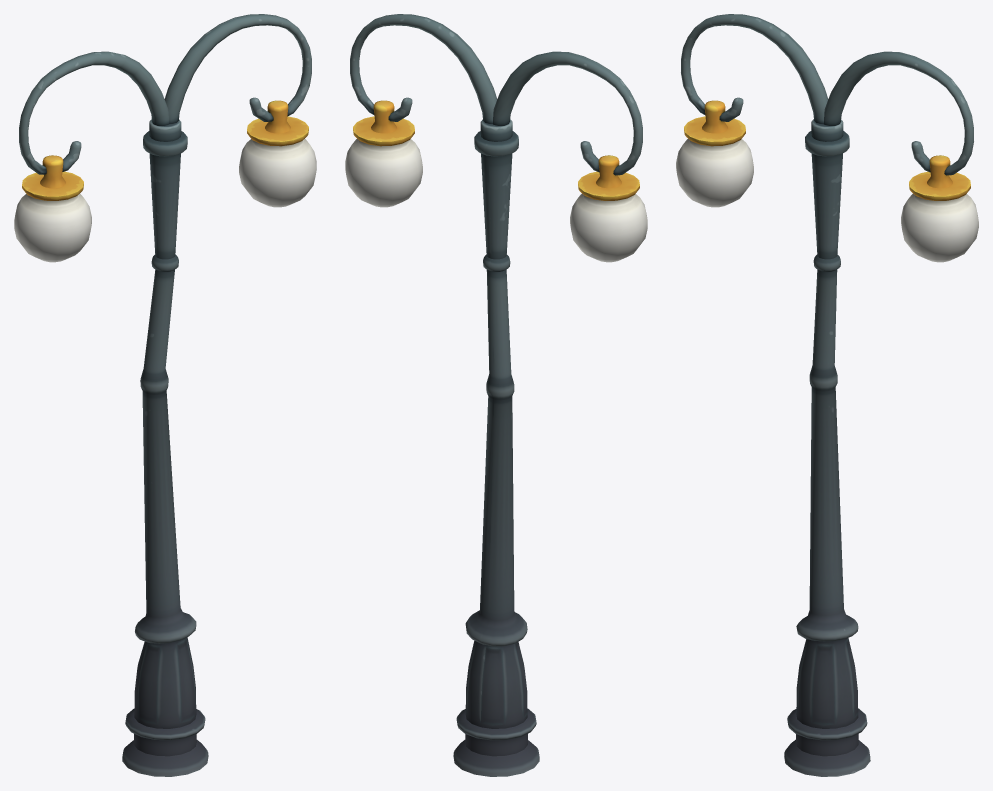
Rendered from StreetLamp02_2.FBX.
3 renders of one model, left to right at view 1: azimuth 30°, elevation 25°; view 2: azimuth 150°, elevation 25°; view 3: azimuth 330°, elevation 25°, orthographic.
Parts seen in each view (by area): view 1: StreetLamp02_2; view 2: StreetLamp02_2; view 3: StreetLamp02_2.
Boxes of the visible parts, x1,y1,x2,y2 form: StreetLamp02_2: [14, 14, 316, 776]; StreetLamp02_2: [345, 14, 647, 776]; StreetLamp02_2: [676, 14, 978, 776].
Size of what is drawn, in the model's own units: 1.85 by 4.37 by 0.4767.
